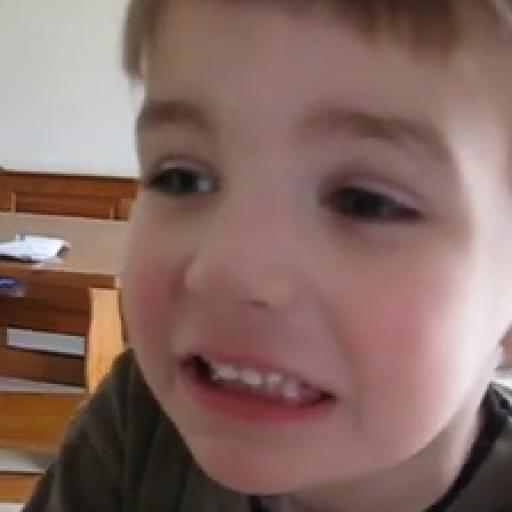Autism: (72, 24, 512, 482)
